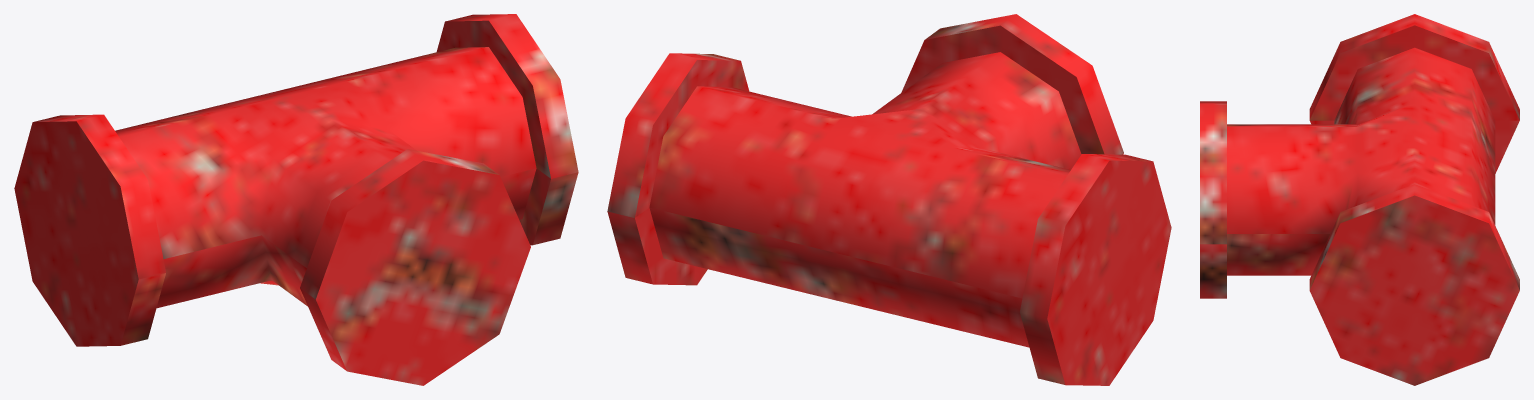
File: SM_PROP_PIPE_METAL_16.fbx
3 renders of one model, left to right at view 1: azimuth 30°, elevation 25°; view 2: azimuth 150°, elevation 25°; view 3: azimuth 270°, elevation 25°, orthographic. The views are drawn at different scales.
Parts seen in each view (by area): view 1: SM_PROP_PIPE_METAL_16; view 2: SM_PROP_PIPE_METAL_16; view 3: SM_PROP_PIPE_METAL_16.
Boxes of the visible parts, <box> form: SM_PROP_PIPE_METAL_16: <box>14,14,578,385</box>; SM_PROP_PIPE_METAL_16: <box>607,14,1171,385</box>; SM_PROP_PIPE_METAL_16: <box>1200,14,1519,385</box>.
Bounding box in the file's own units: 0.8 × 0.3917 × 0.5958.
